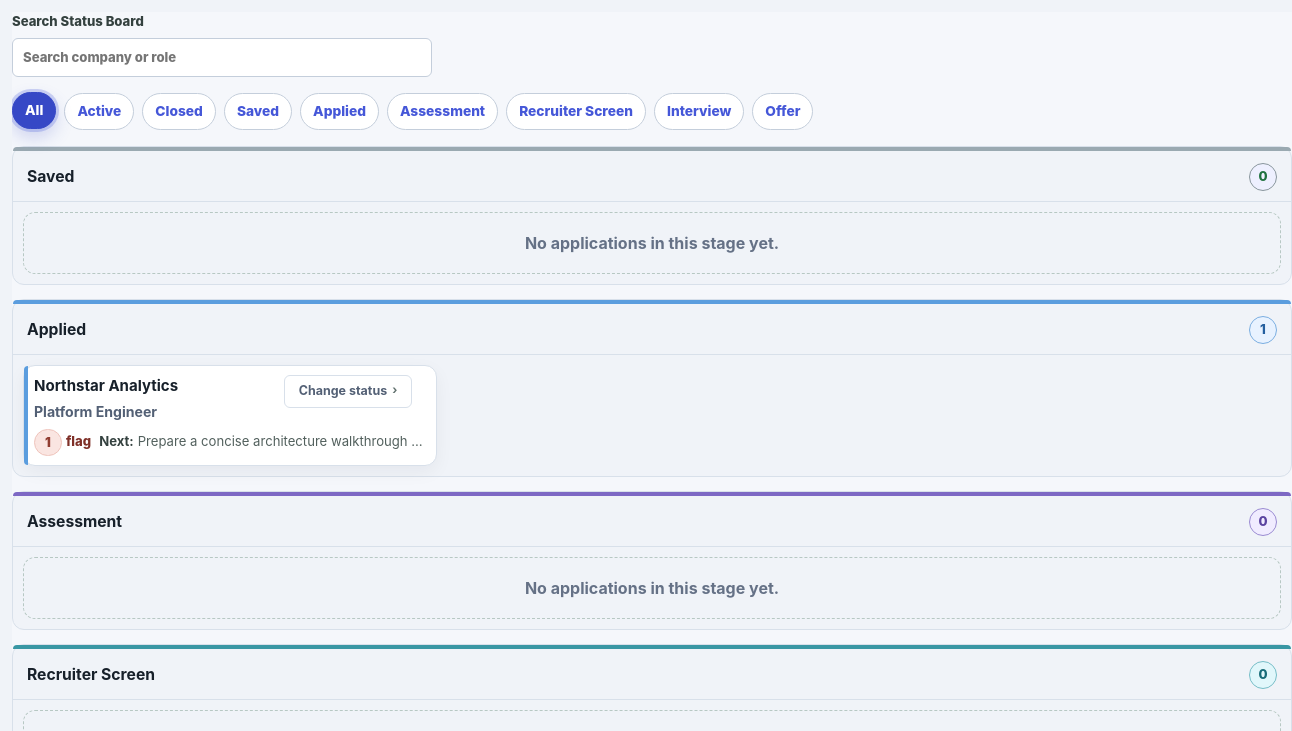
Test case: PipelineBoard › opens status choices and marks the current status unavailable
The width and height of the screenshot is (1292, 731).
Click the button "Change status ›" at coordinates (348, 391), box [284,375,412,408]
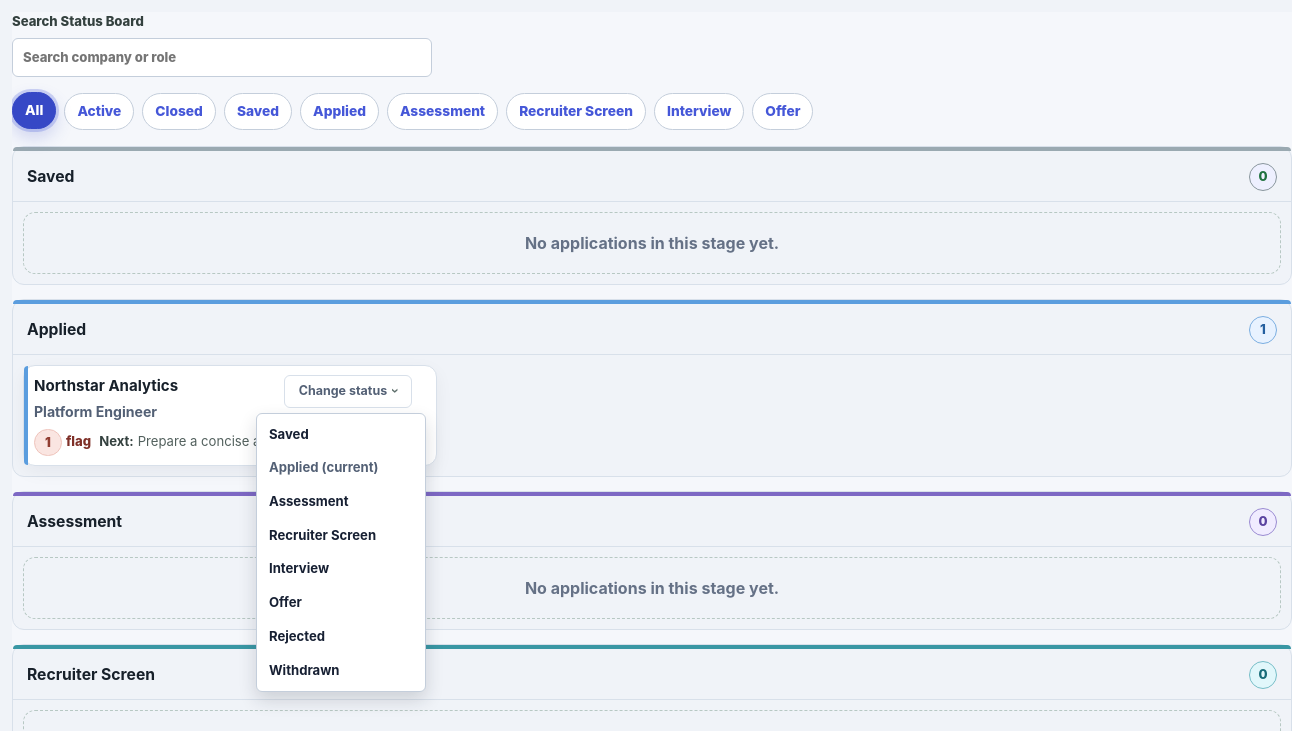
expect the text "Active" is not shown: met
expect the menu item "Applied (current)" is disabled: met, box [261,451,421,485]
expect the number of menu items is 8: met
